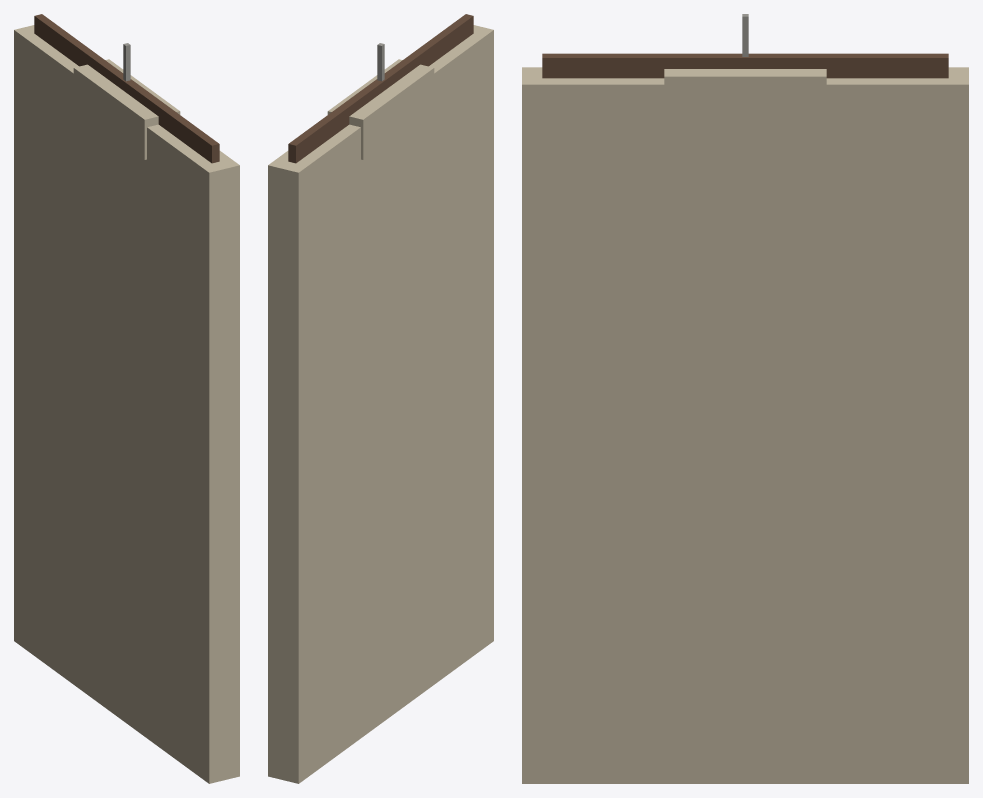
Rendered from shirt-cream-hung.glb.
3 renders of one model, left to right at view 1: azimuth 30°, elevation 25°; view 2: azimuth 150°, elevation 25°; view 3: azimuth 270°, elevation 25°, orthographic. The views are drawn at different scales.
Parts seen in each view (by area): view 1: paper, wood; view 2: paper, wood; view 3: paper, wood.
Boxes of the visible parts, box(x1,y1,x2,y2) form: paper: box(14, 25, 239, 783); wood: box(34, 14, 219, 163); paper: box(268, 25, 493, 783); wood: box(288, 14, 473, 163); paper: box(522, 67, 968, 783); wood: box(542, 53, 948, 78).
Bounding box in the file's own units: 0.046 × 0.826 × 0.44.
